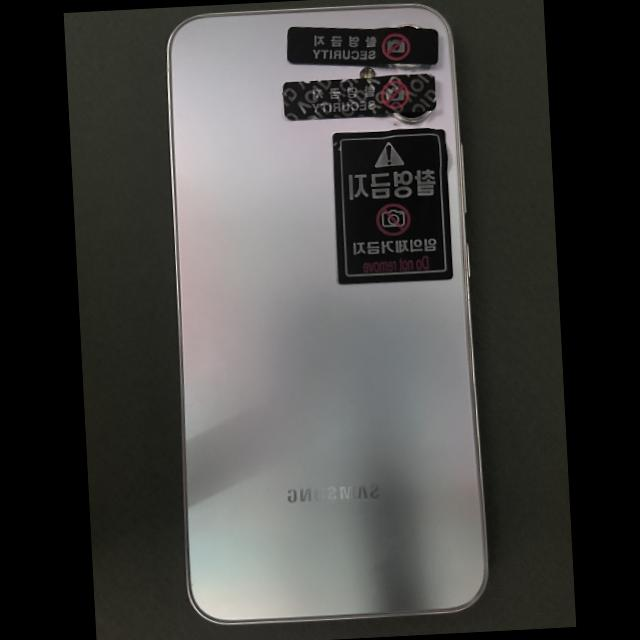lens: (392, 110, 431, 122), (393, 64, 422, 70)
phone: (167, 5, 486, 622)
sticker: (332, 129, 451, 284), (282, 74, 435, 120), (286, 27, 437, 66)
